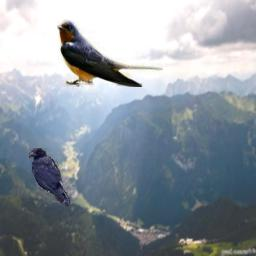Crow: (29, 148, 70, 206)
Swallow: (57, 19, 163, 87)
